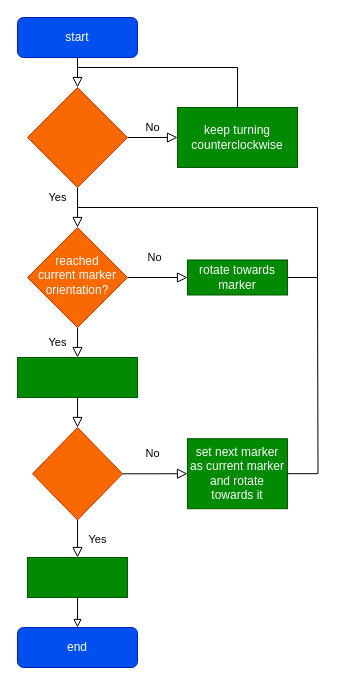
Some shapes in this 337 by 685 pixel diagram are drawn without their labels. Each missing label, with the centre of its shape:
"reached all markers?" belongs at point 77,473.
"received marker list?" belongs at point 77,137.
"signal to draw a circle" belongs at point 77,377.
"stop moving" belongs at point 77,577.
